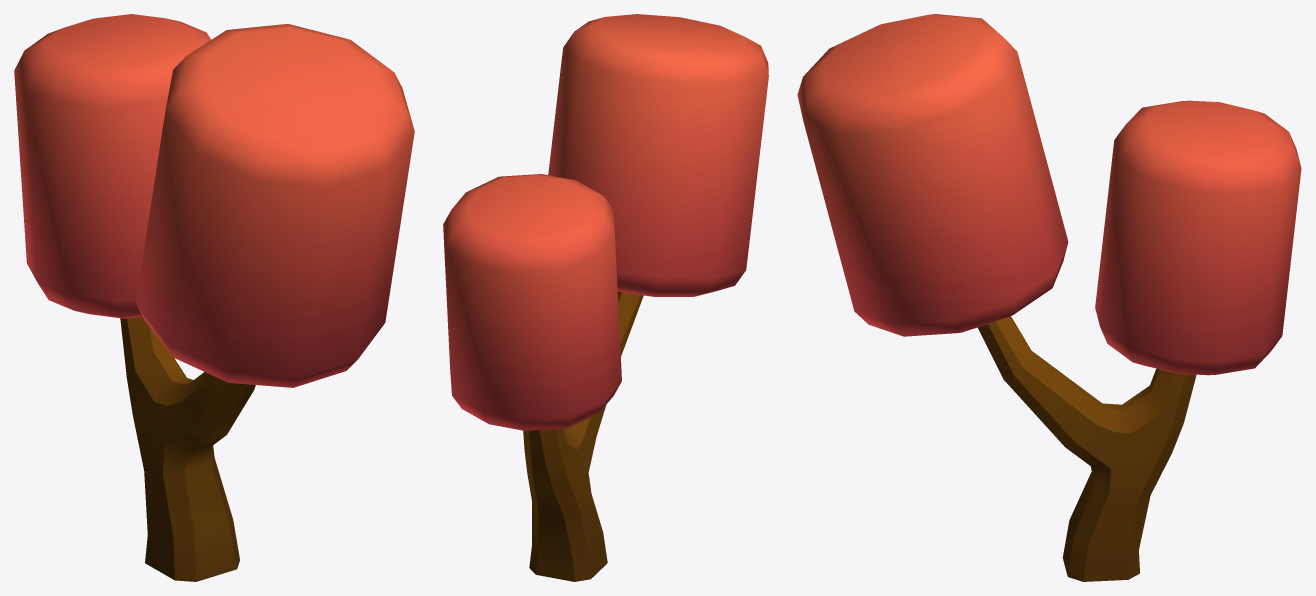
File: Tree_E_2_.fbx
The picture shows the model from 3 angles, left to right: view 1: azimuth 30°, elevation 25°; view 2: azimuth 150°, elevation 25°; view 3: azimuth 270°, elevation 25°; orthographic projection. The views are drawn at different scales.
Visible parts, largest first — view 1: Tree_E_2; view 2: Tree_E_2; view 3: Tree_E_2.
Boxes of the visible parts, bbox=[...] form: Tree_E_2: bbox=[14, 14, 414, 581]; Tree_E_2: bbox=[443, 14, 768, 581]; Tree_E_2: bbox=[797, 14, 1301, 581].
Size of the model in its own units: 169 by 431 by 376.
